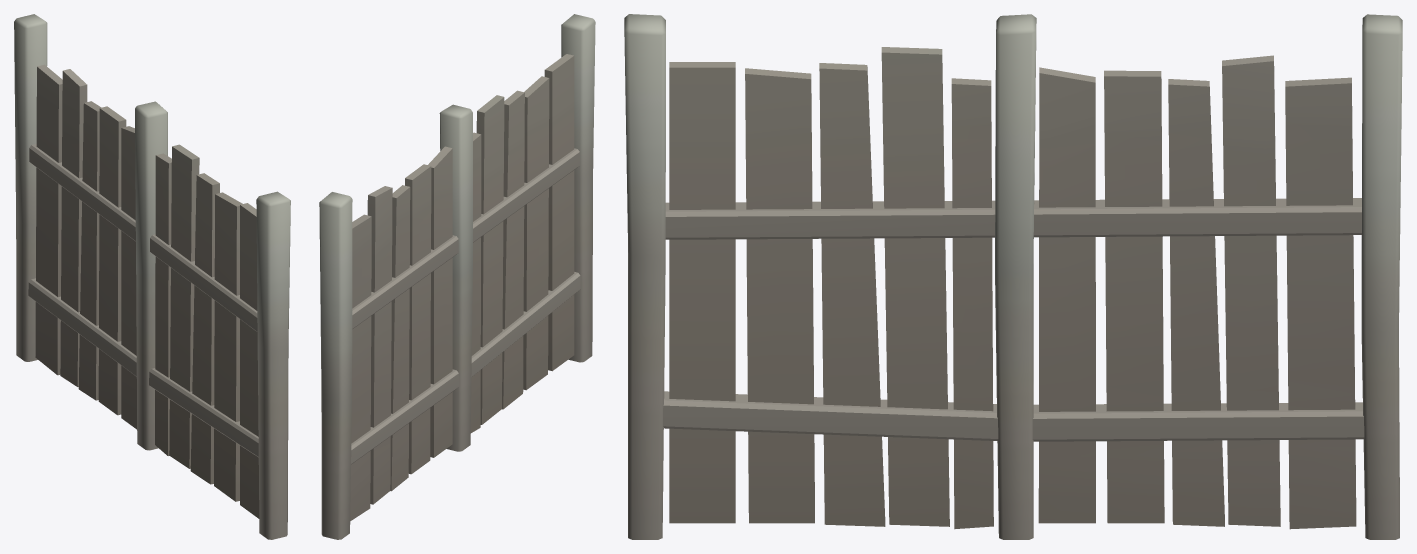
The model's file is WallFence_2_1_B.fbx.
3 renders of one model, left to right at view 1: azimuth 30°, elevation 25°; view 2: azimuth 150°, elevation 25°; view 3: azimuth 270°, elevation 25°, orthographic. The views are drawn at different scales.
Visible parts, largest first — view 1: WallFence_2_1_B; view 2: WallFence_2_1_B; view 3: WallFence_2_1_B.
Boxes of the visible parts, bbox=[...] form: WallFence_2_1_B: bbox=[14, 14, 290, 539]; WallFence_2_1_B: bbox=[319, 14, 595, 539]; WallFence_2_1_B: bbox=[624, 14, 1402, 539].
Bounding box in the file's own units: 11.27 × 152 × 210.
